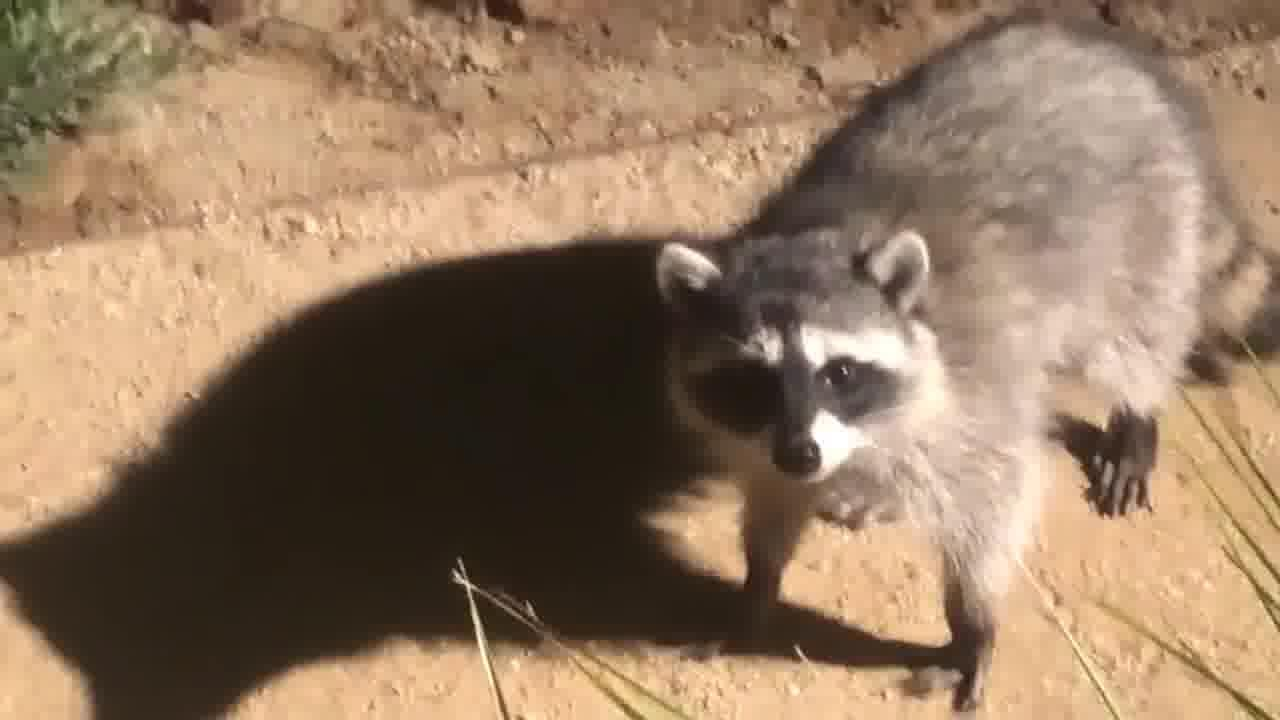raccoon: (644, 8, 1280, 720)
